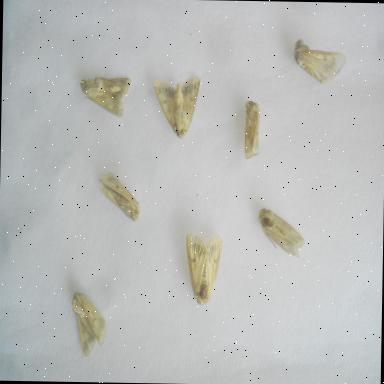abw: (182, 226, 228, 309), (150, 72, 204, 142), (254, 199, 310, 262), (68, 288, 112, 360), (291, 34, 349, 88), (76, 71, 134, 122), (95, 167, 144, 225), (240, 96, 266, 166)
